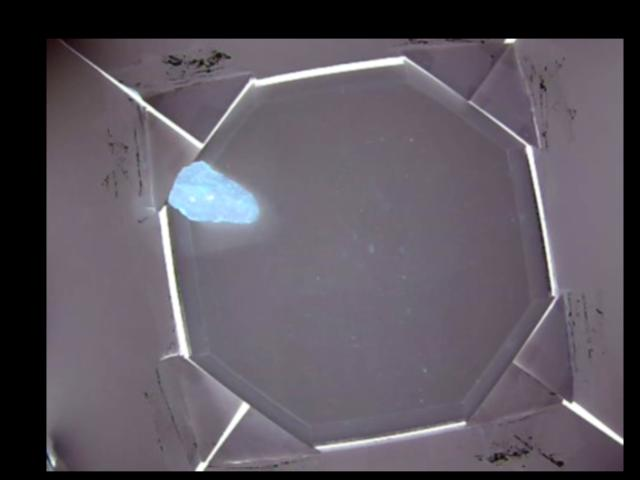Brisk: (167, 161, 258, 223)
